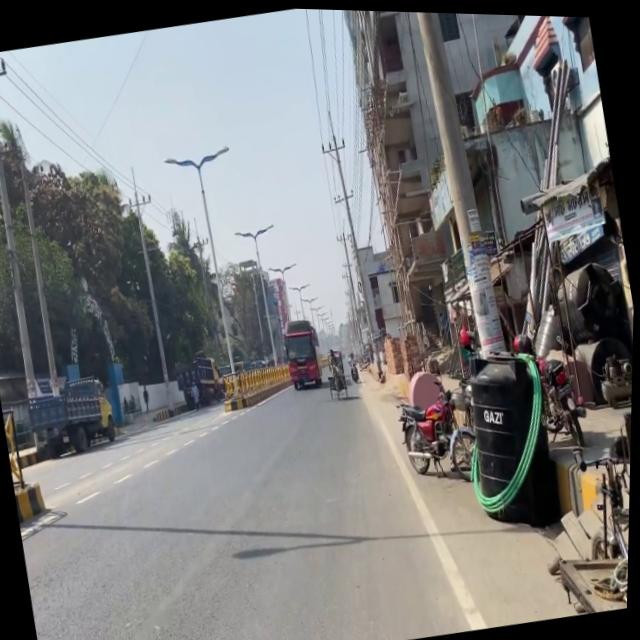Downstairs: (453, 338, 568, 533)
Fallen-tree: (389, 365, 482, 484), (532, 347, 594, 448), (326, 359, 351, 399), (348, 357, 361, 381), (378, 367, 388, 380)
Garbage: (557, 535, 631, 613)
Garbage-bin: (142, 383, 152, 410)
Light-pole: (404, 10, 514, 356)
Pothole: (351, 310, 635, 640)
Traffic-cone: (23, 369, 122, 462), (279, 313, 328, 389), (173, 349, 229, 410)
